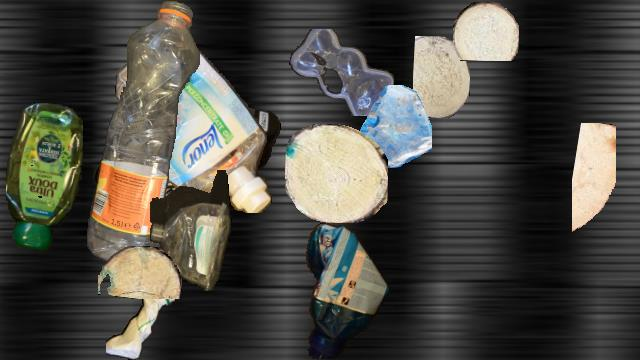glass: (349, 85, 431, 167)
plastic: (87, 1, 199, 265), (114, 40, 274, 212), (93, 111, 281, 247), (300, 221, 388, 359), (6, 103, 82, 251), (150, 170, 232, 292), (289, 29, 395, 115), (106, 275, 174, 359)
wood: (285, 124, 387, 222), (572, 123, 616, 239), (413, 36, 469, 118), (98, 246, 182, 298), (453, 2, 519, 60)
